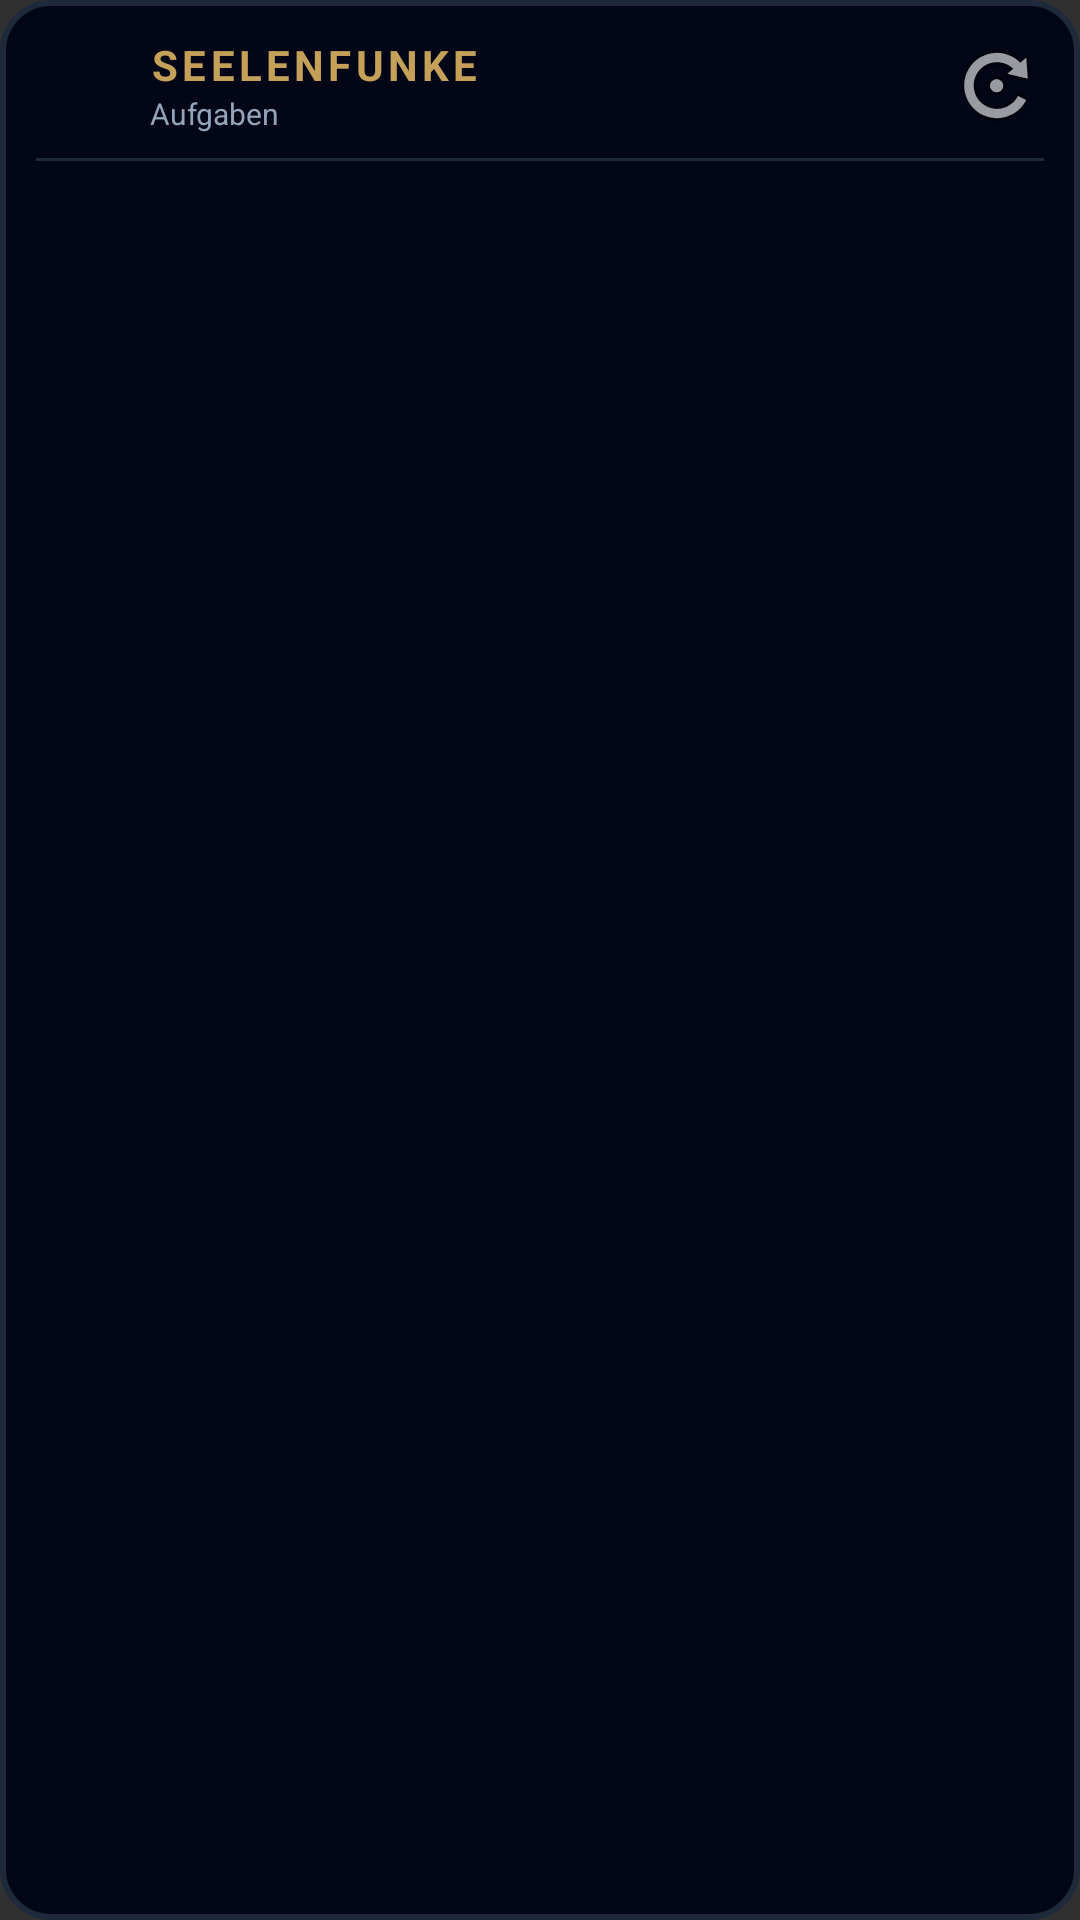

Icons on this 1080w x 1920h Android screen, each with its box as (x1, y1, x2, y2):
Aktualisieren: (964, 52, 1028, 119)
